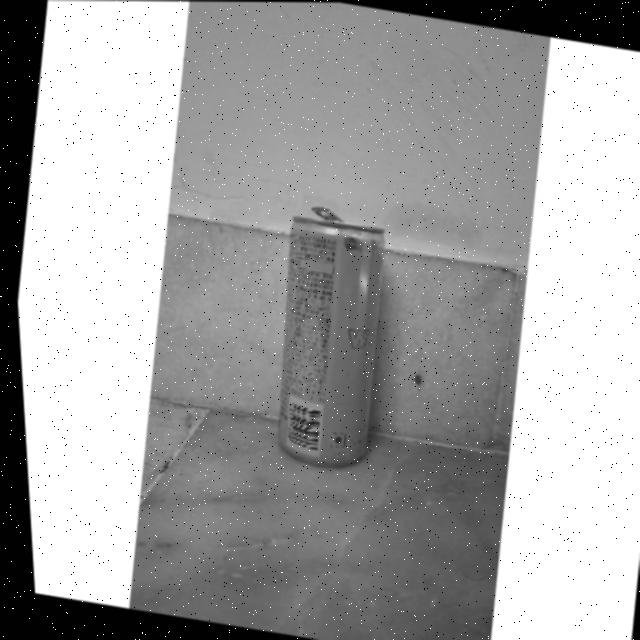Redbull Summer Edition: (246, 195, 403, 474)
